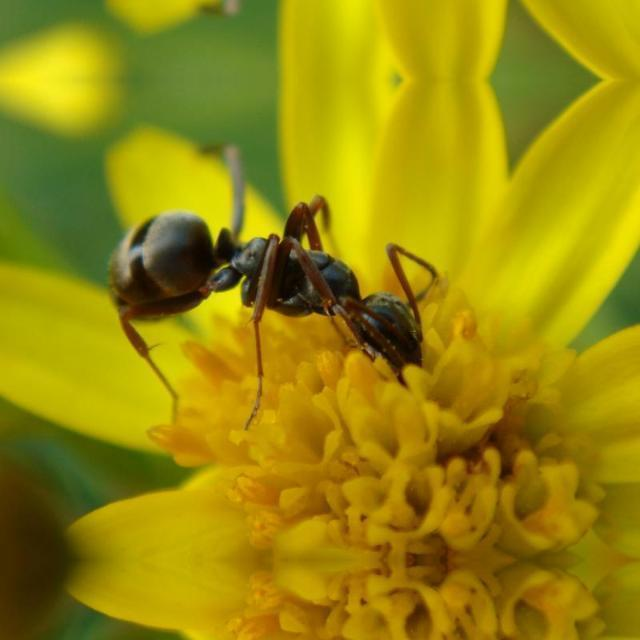Formica: (98, 172, 474, 414)
